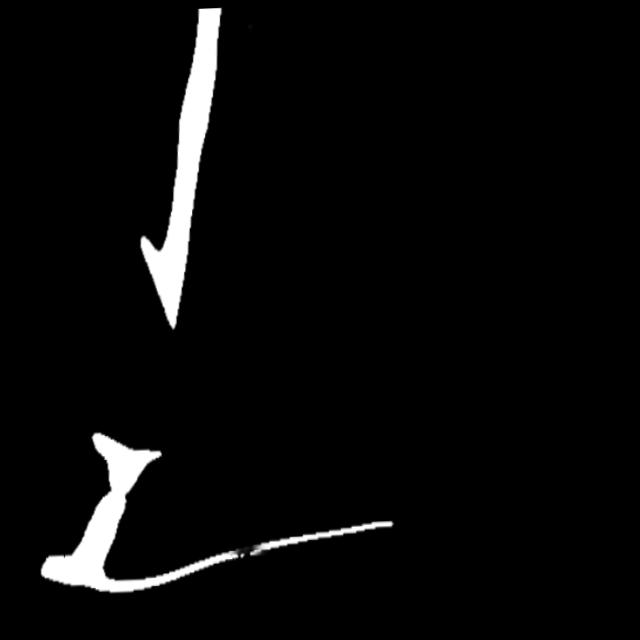inf: (238, 536, 278, 568)
